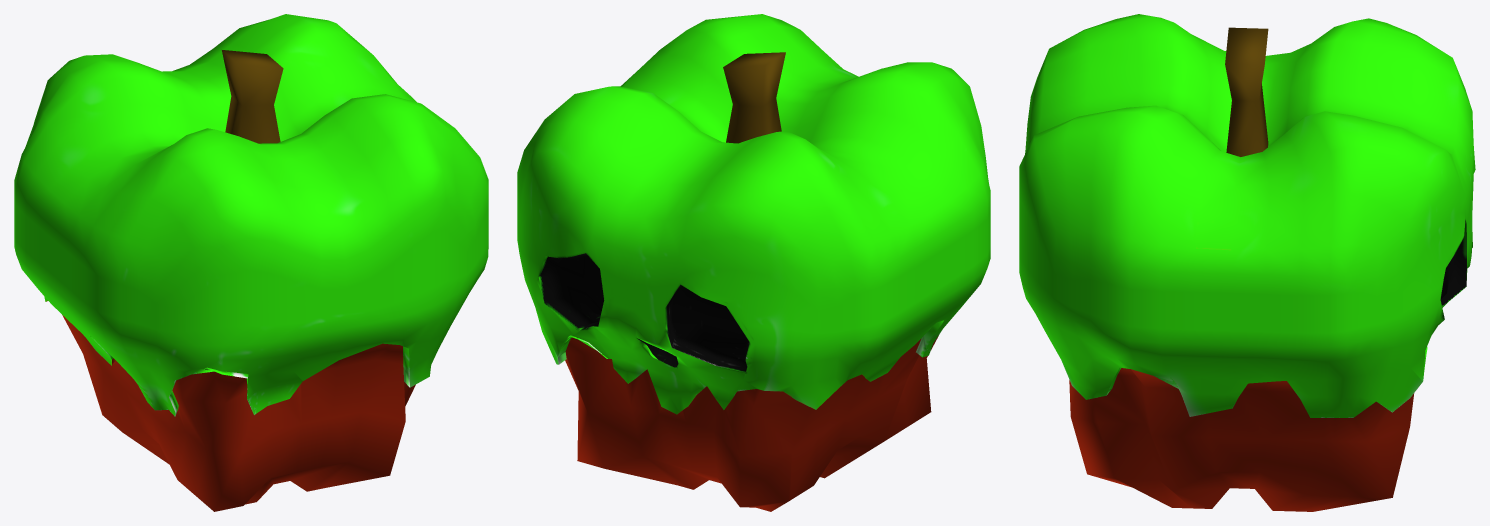
Rendered from poisoned_apple3.fbx.
The picture shows the model from 3 angles, left to right: view 1: azimuth 30°, elevation 25°; view 2: azimuth 150°, elevation 25°; view 3: azimuth 270°, elevation 25°; orthographic projection. The views are drawn at different scales.
Visible parts, largest first — view 1: poisoned_apple3; view 2: poisoned_apple3; view 3: poisoned_apple3.
Part boxes in pixels (<box>): poisoned_apple3: <box>14,14,488,511</box>; poisoned_apple3: <box>517,14,990,511</box>; poisoned_apple3: <box>1019,14,1475,511</box>.
Size of the model in its own units: 0.5436 by 0.5636 by 0.5278.
1 material, 1 textured.
